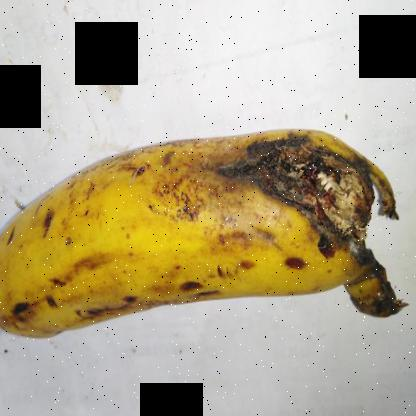rotten: (216, 107, 416, 368)
